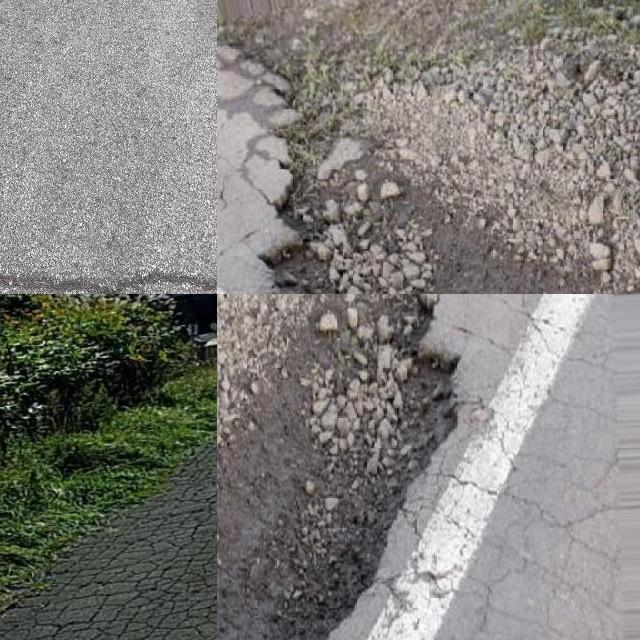Melintang: (0, 265, 217, 294)
Pinggir: (217, 294, 491, 640), (244, 78, 629, 294)
Retak Buaya: (0, 423, 217, 640)
